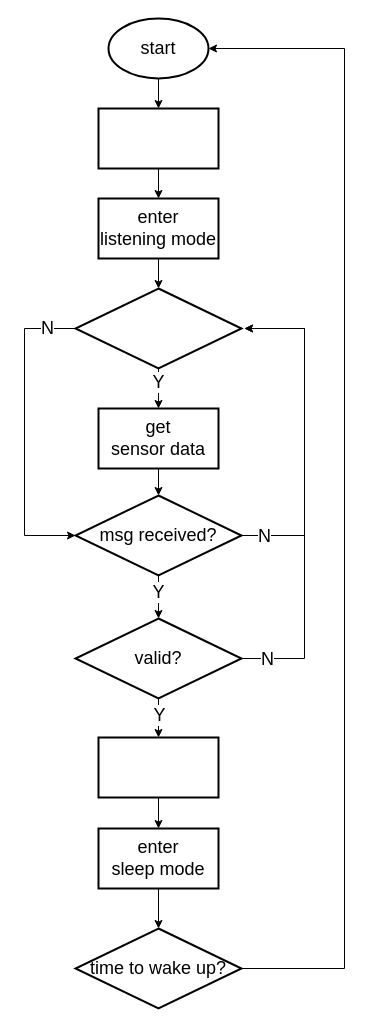
The diagram is 370 pixels wide and 1026 high, and some of its shapes have lost their labels. Each missing label, with the centre of its shape:
initialization: the point at 158,138
send data: the point at 158,767
time to get data?: the point at 158,328
